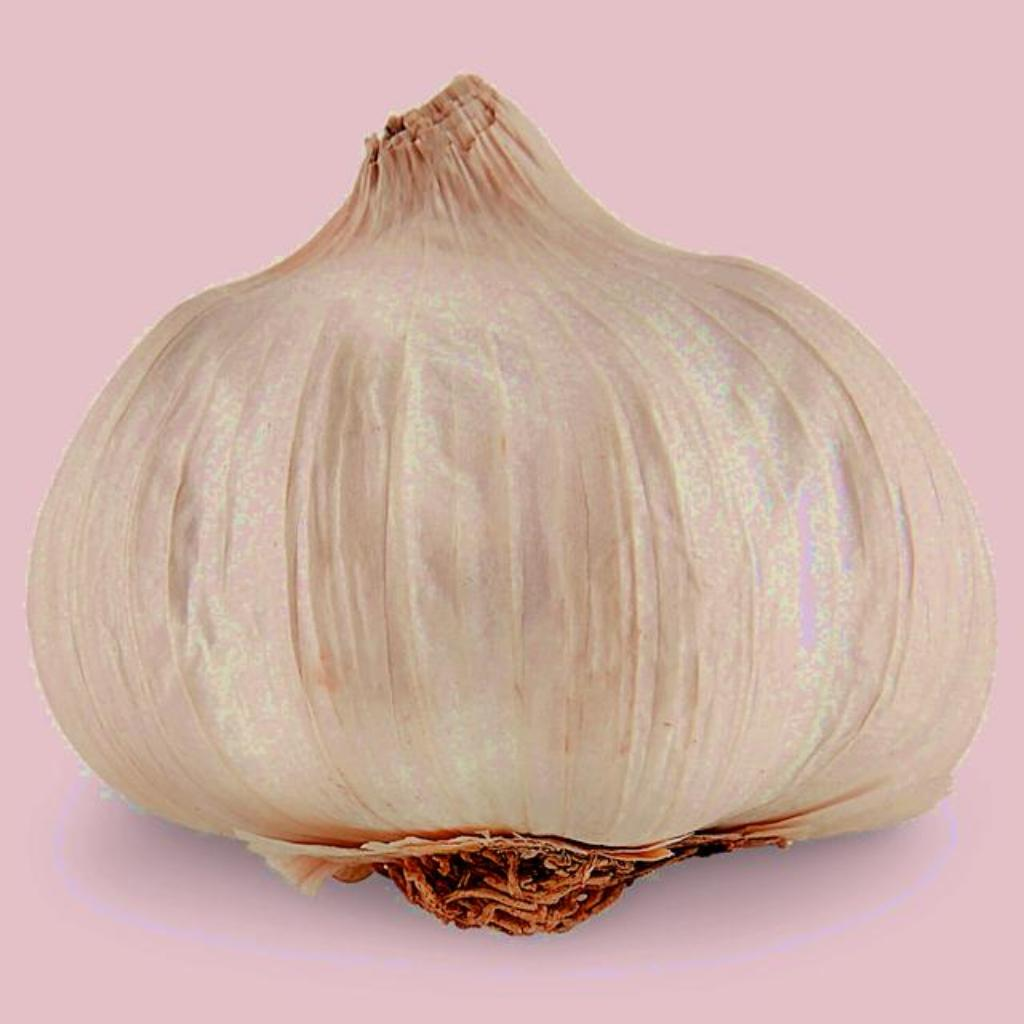garlic: (28, 76, 994, 933)
